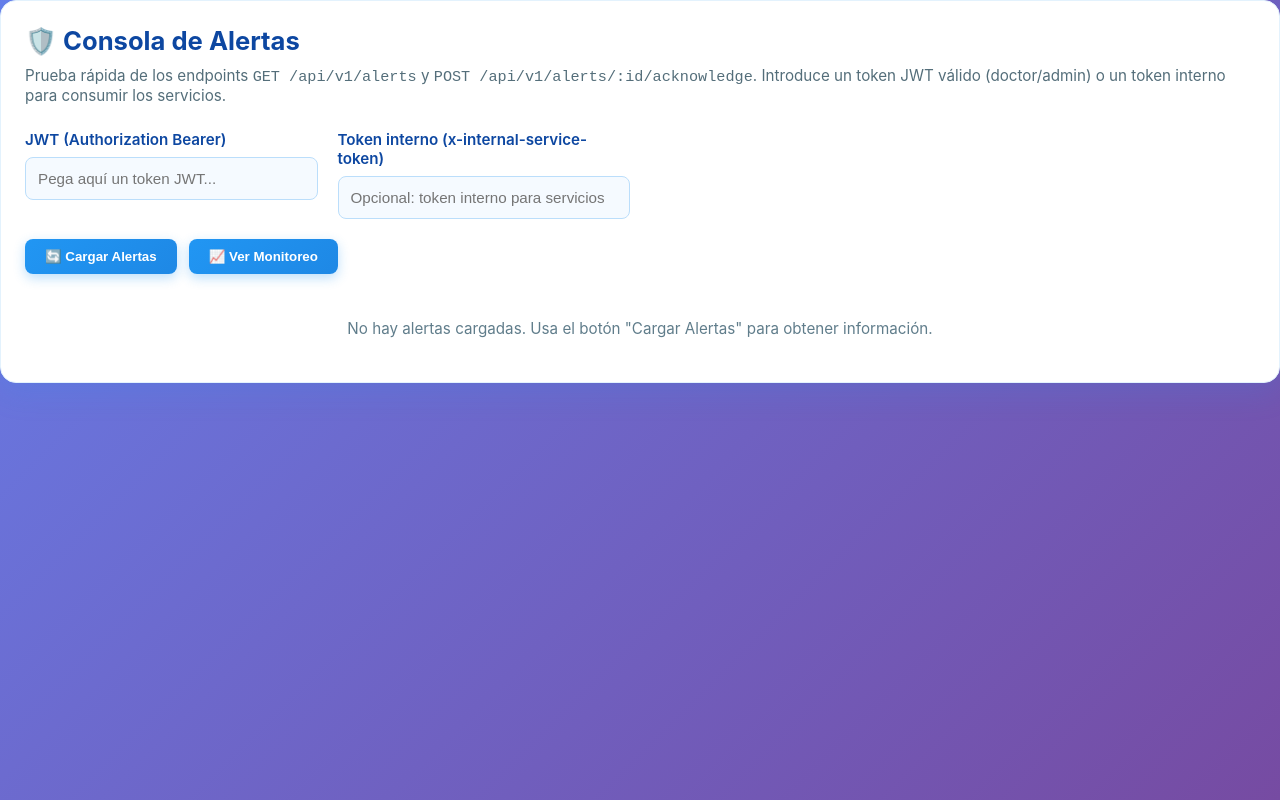
Test: AlertConsole › carga alertas y muestra la tabla cuando hay datos
The width and height of the screenshot is (1280, 800).
Click the button "🔄 Cargar Alertas": (101, 256) 25,239 -> 177,274
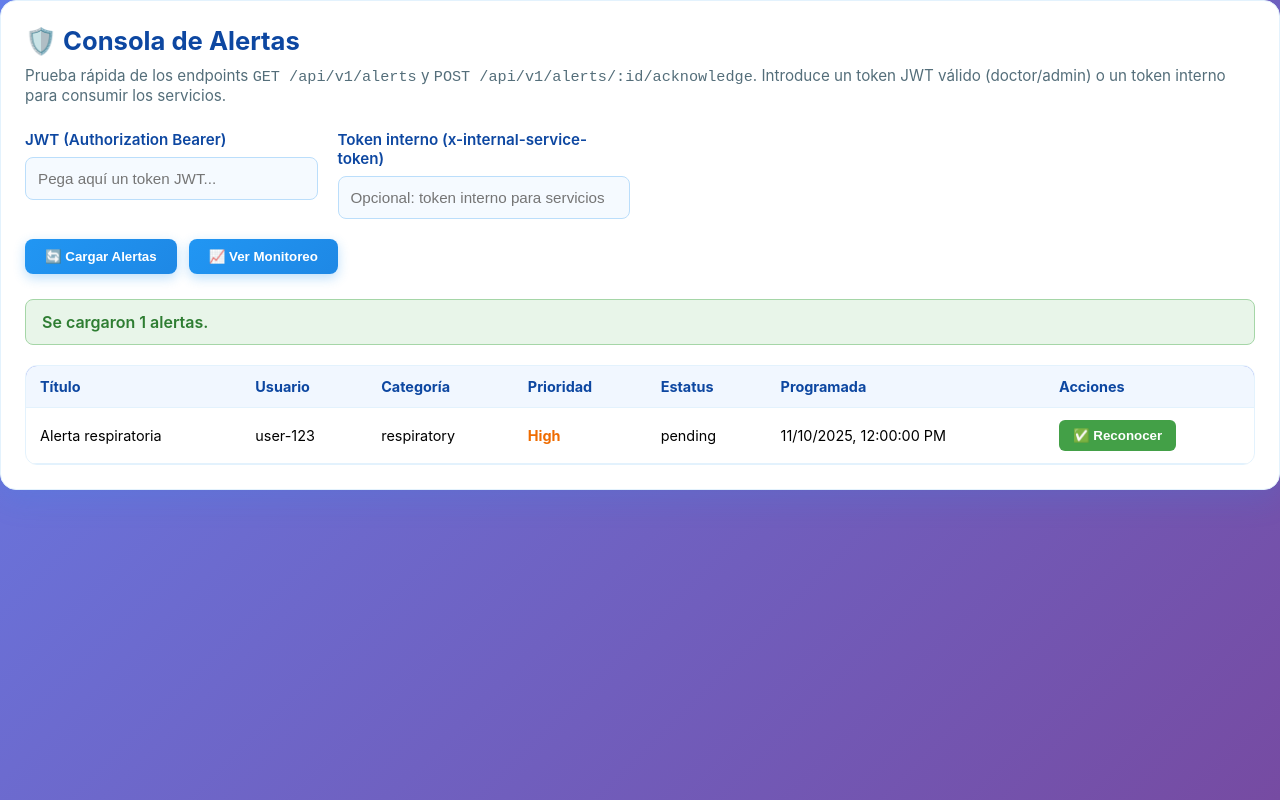
Now the text "Se cargaron 1 alertas." is shown, box 25,299 -> 1255,345
Now the text "Alerta respiratoria" is shown, box 26,408 -> 241,464
Now the text "user-123" is shown, box 241,408 -> 367,464
